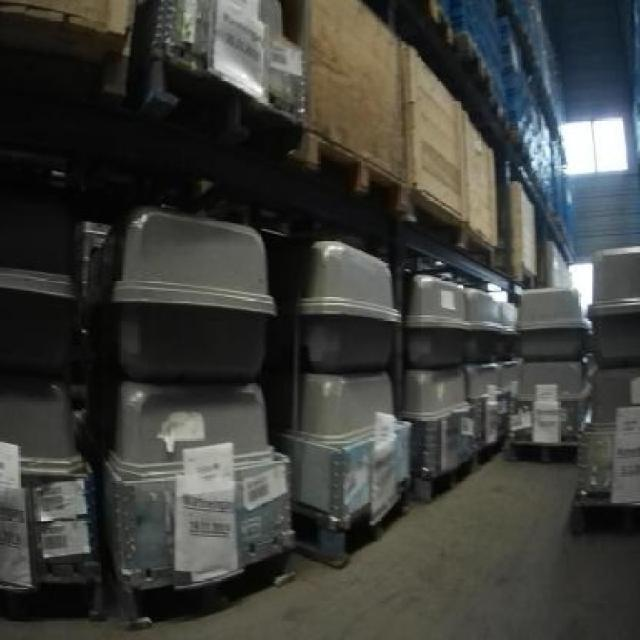pallets: (111, 208, 272, 378)
